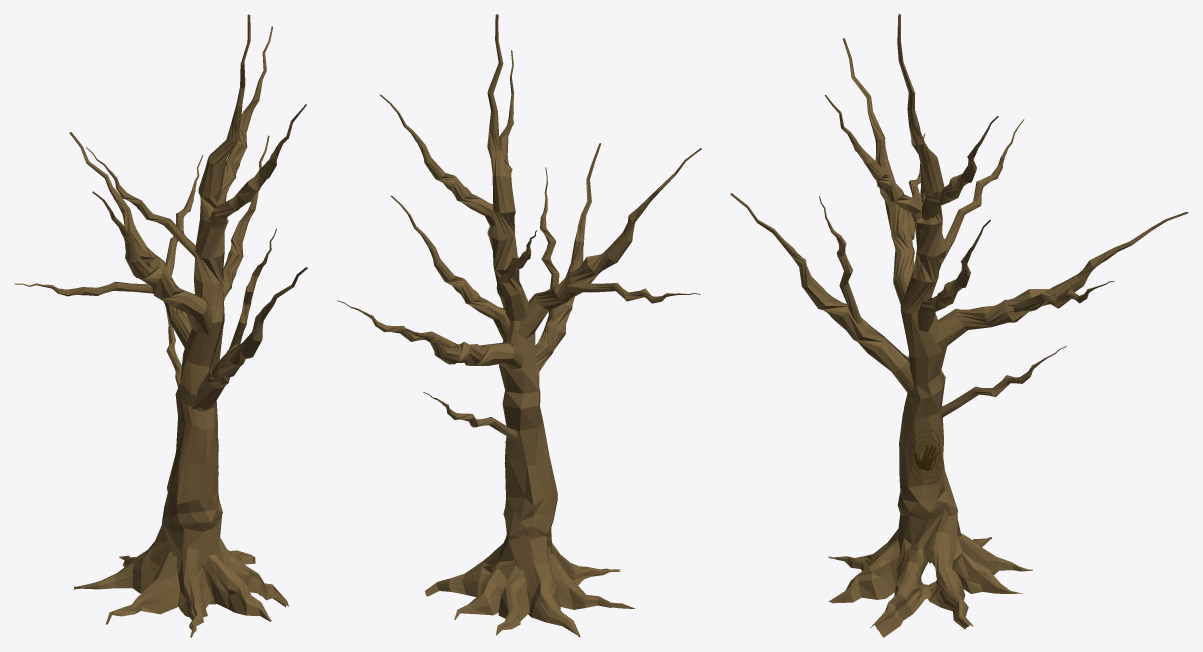
File: roots_tree.fbx
3 views of the same model, side by side, from view 1: azimuth 30°, elevation 25°; view 2: azimuth 150°, elevation 25°; view 3: azimuth 270°, elevation 25° (orthographic). The views are drawn at different scales.
Parts seen in each view (by area): view 1: n.0017, n.0016, n.0020, n.0021, n.0011, n.0014, n.0009, n.0019, n.0012, n.0024, n.0023, n.0022 (+5 smaller); view 2: n.0017, n.0020, n.0014, n.0021, n.0019, n.0005, n.0022, n.0023, n.0015, n.0009, n.0006, n.0027 (+5 smaller); view 3: n.0017, n.0012, n.0019, n.0021, n.0005, n.0020, n.0011, n.0024, n.0022, n.0023, n.0006, n.0026 (+4 smaller).
Part boxes in pixels (x1,y1,x2,y2): n.0017: [162, 14, 250, 531]; n.0016: [163, 525, 213, 637]; n.0020: [92, 191, 212, 335]; n.0021: [192, 267, 307, 410]; n.0011: [205, 554, 271, 621]; n.0014: [73, 525, 173, 593]; n.0009: [105, 550, 180, 624]; n.0019: [69, 132, 191, 348]; n.0012: [197, 516, 288, 607]; n.0024: [205, 104, 306, 233]; n.0023: [217, 26, 272, 204]; n.0022: [222, 135, 269, 300]; n.0017: [487, 14, 557, 540]; n.0020: [517, 148, 701, 339]; n.0014: [508, 535, 580, 637]; n.0021: [535, 143, 600, 385]; n.0019: [396, 328, 522, 369]; n.0005: [425, 530, 515, 597]; n.0022: [390, 195, 509, 339]; n.0023: [379, 94, 495, 227]; n.0015: [496, 565, 529, 635]; n.0009: [550, 552, 635, 609]; n.0006: [454, 568, 506, 619]; n.0027: [568, 283, 700, 303]; n.0017: [897, 14, 957, 520]; n.0012: [870, 512, 943, 637]; n.0019: [931, 212, 1188, 350]; n.0021: [730, 193, 913, 394]; n.0005: [928, 509, 973, 629]; n.0020: [842, 38, 914, 304]; n.0011: [828, 538, 899, 603]; n.0024: [824, 95, 922, 234]; n.0022: [918, 220, 990, 331]; n.0023: [921, 116, 998, 220]; n.0006: [955, 551, 1022, 593]; n.0026: [940, 119, 1024, 265].
Bounding box in the file's own units: 24.24 × 31.93 × 46.84.
